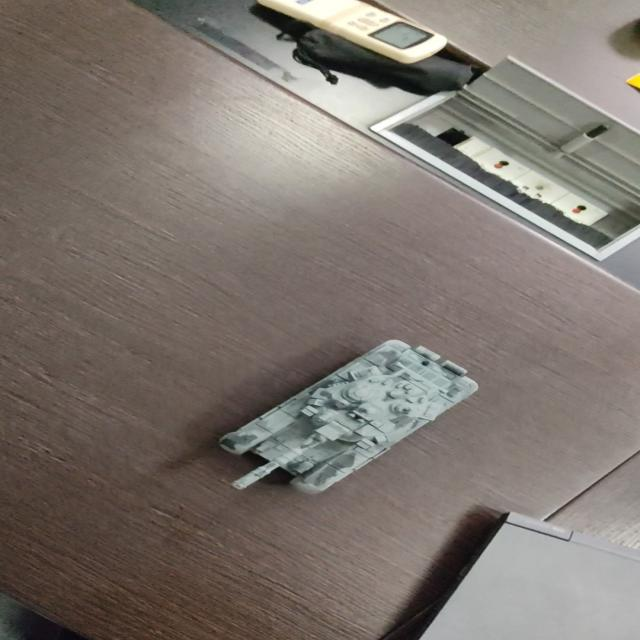tank: (220, 337, 482, 495)
